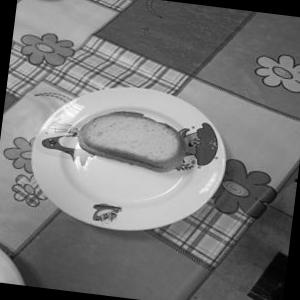bread: (64, 96, 206, 189)
